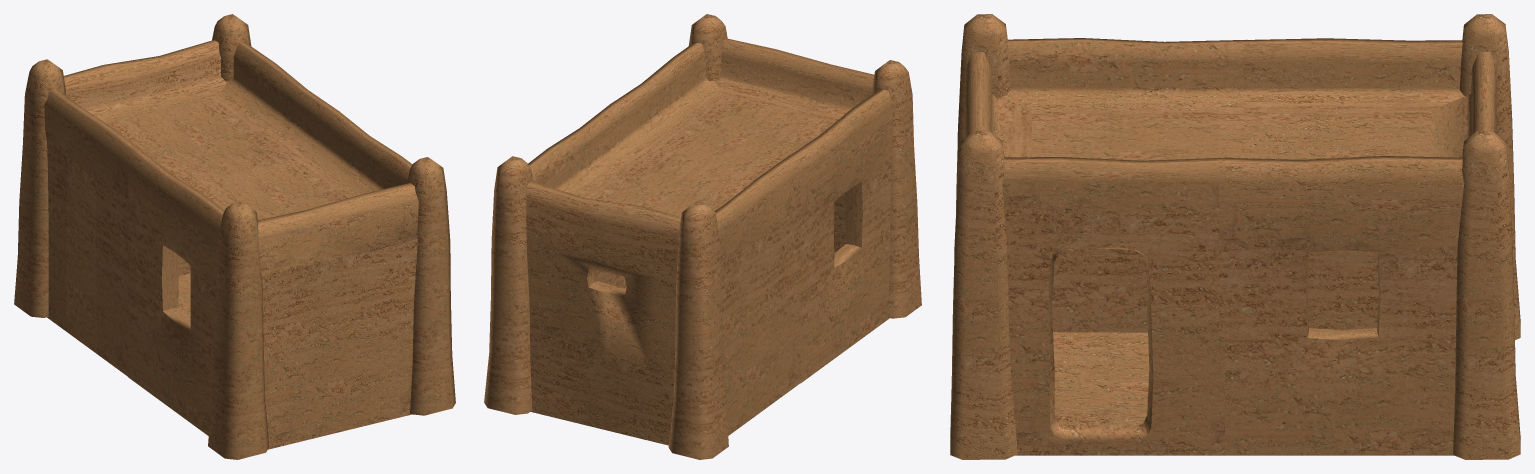
File: clay_house_1_story_mini.glb
The picture shows the model from 3 angles, left to right: view 1: azimuth 30°, elevation 25°; view 2: azimuth 150°, elevation 25°; view 3: azimuth 270°, elevation 25°; orthographic projection. The views are drawn at different scales.
Parts seen in each view (by area): view 1: Haus_5; view 2: Haus_5; view 3: Haus_5.
Part boxes in pixels (left/top/right/bottom): Haus_5: left=14, top=14, right=455, bottom=459; Haus_5: left=484, top=14, right=921, bottom=459; Haus_5: left=950, top=14, right=1520, bottom=459.
Bounding box in the file's own units: 3.99 × 4.07 × 6.65.
Materials: 1 (1 with a texture image).
